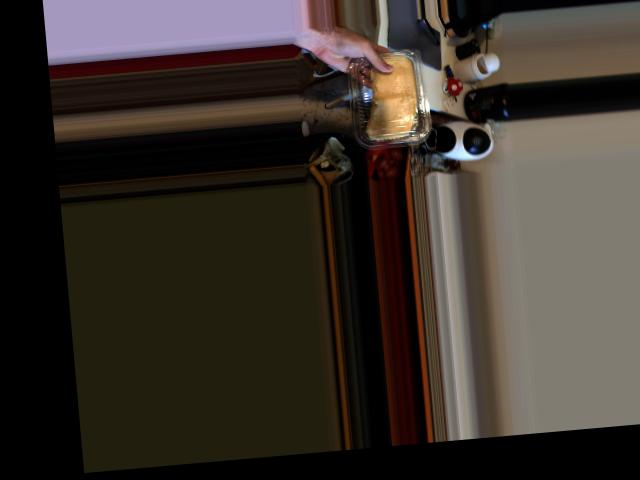cheese: (341, 50, 440, 143)
